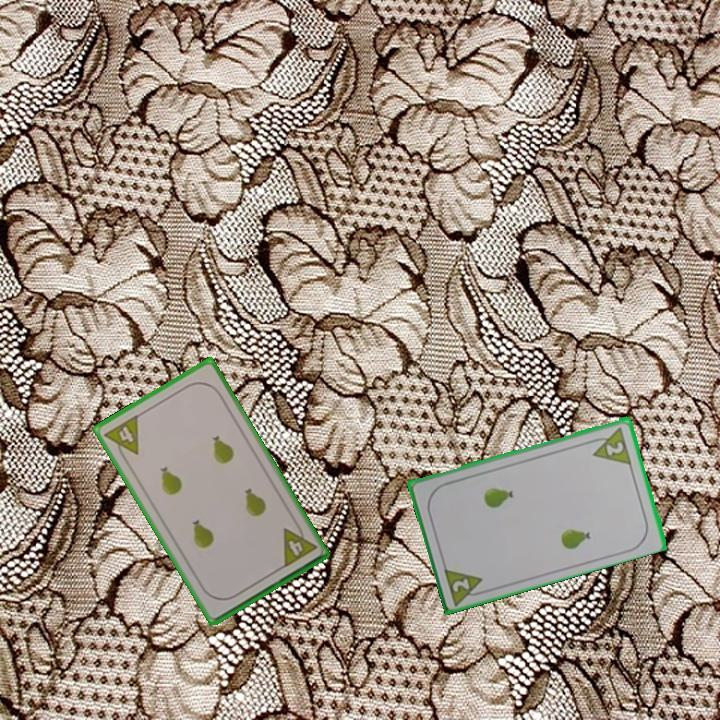2p: (440, 563, 490, 607), (586, 423, 634, 467)
4p: (100, 411, 141, 464), (279, 519, 319, 570)
